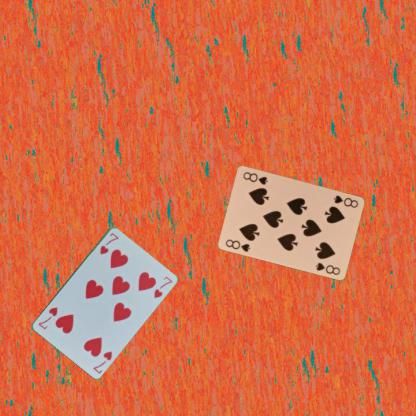7h: (90, 348, 113, 374), (97, 230, 120, 255)
8s: (331, 192, 359, 210), (223, 236, 252, 253)
